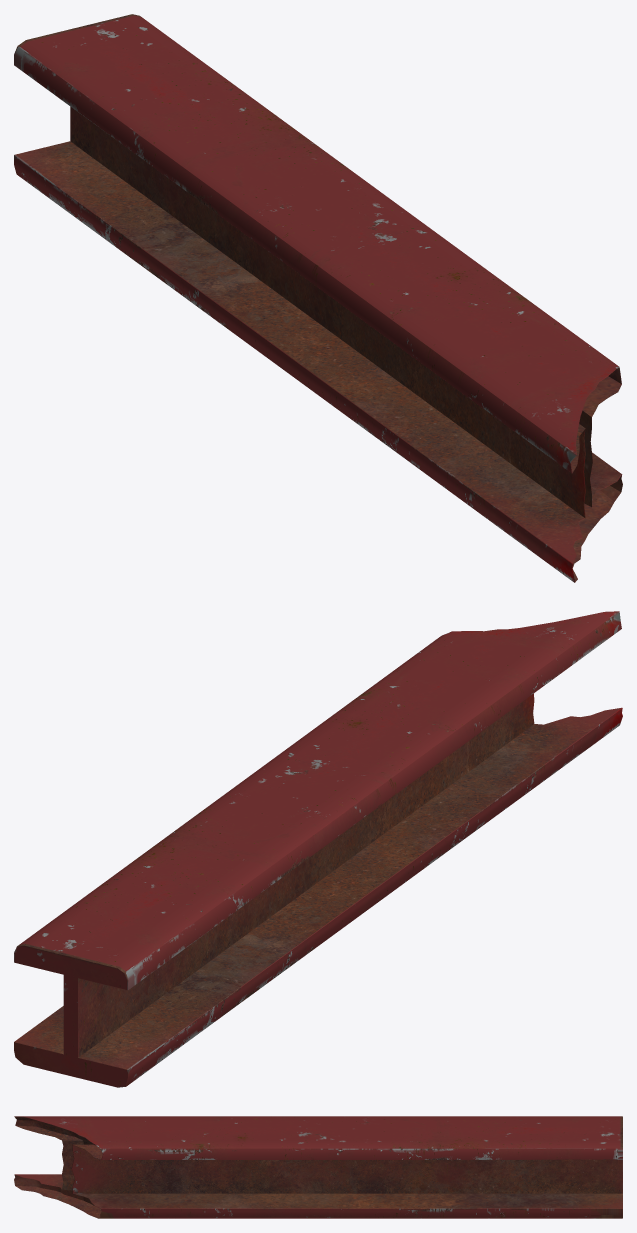
Rendered from steel flame.fbx.
3 views of the same model, one above another, from view 1: azimuth 30°, elevation 25°; view 2: azimuth 150°, elevation 25°; view 3: azimuth 270°, elevation 25° (orthographic). The views are drawn at different scales.
Visible parts, largest first — view 1: polySurface1039; view 2: polySurface1039; view 3: polySurface1039.
Part boxes in pixels (<box>): polySurface1039: <box>14,14,622,582</box>; polySurface1039: <box>14,611,622,1087</box>; polySurface1039: <box>14,1116,622,1218</box>.
Bounding box in the file's own units: 97.59 × 97.59 × 731.
